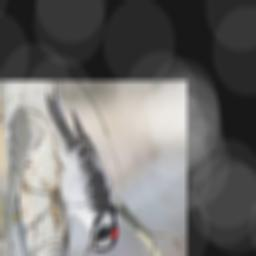Woodpecker: (44, 90, 117, 256)
